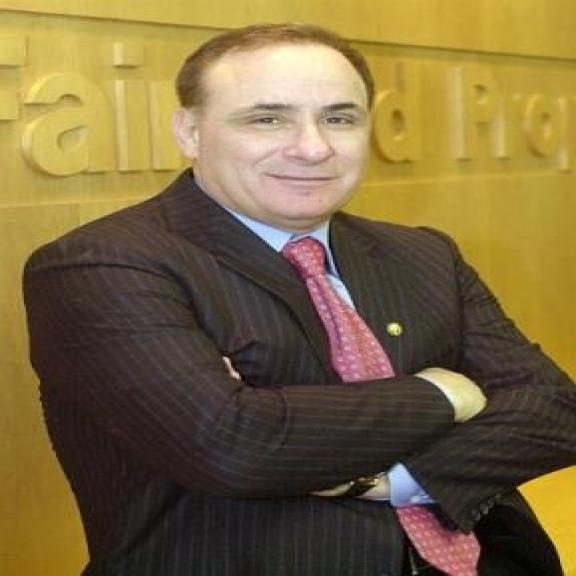face: (171, 20, 379, 222)
